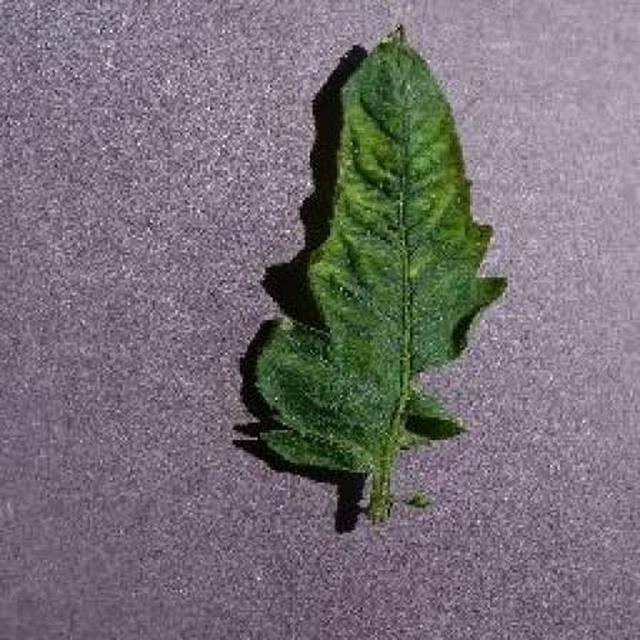Mosaic Virus Leaf: (357, 37, 640, 640)
